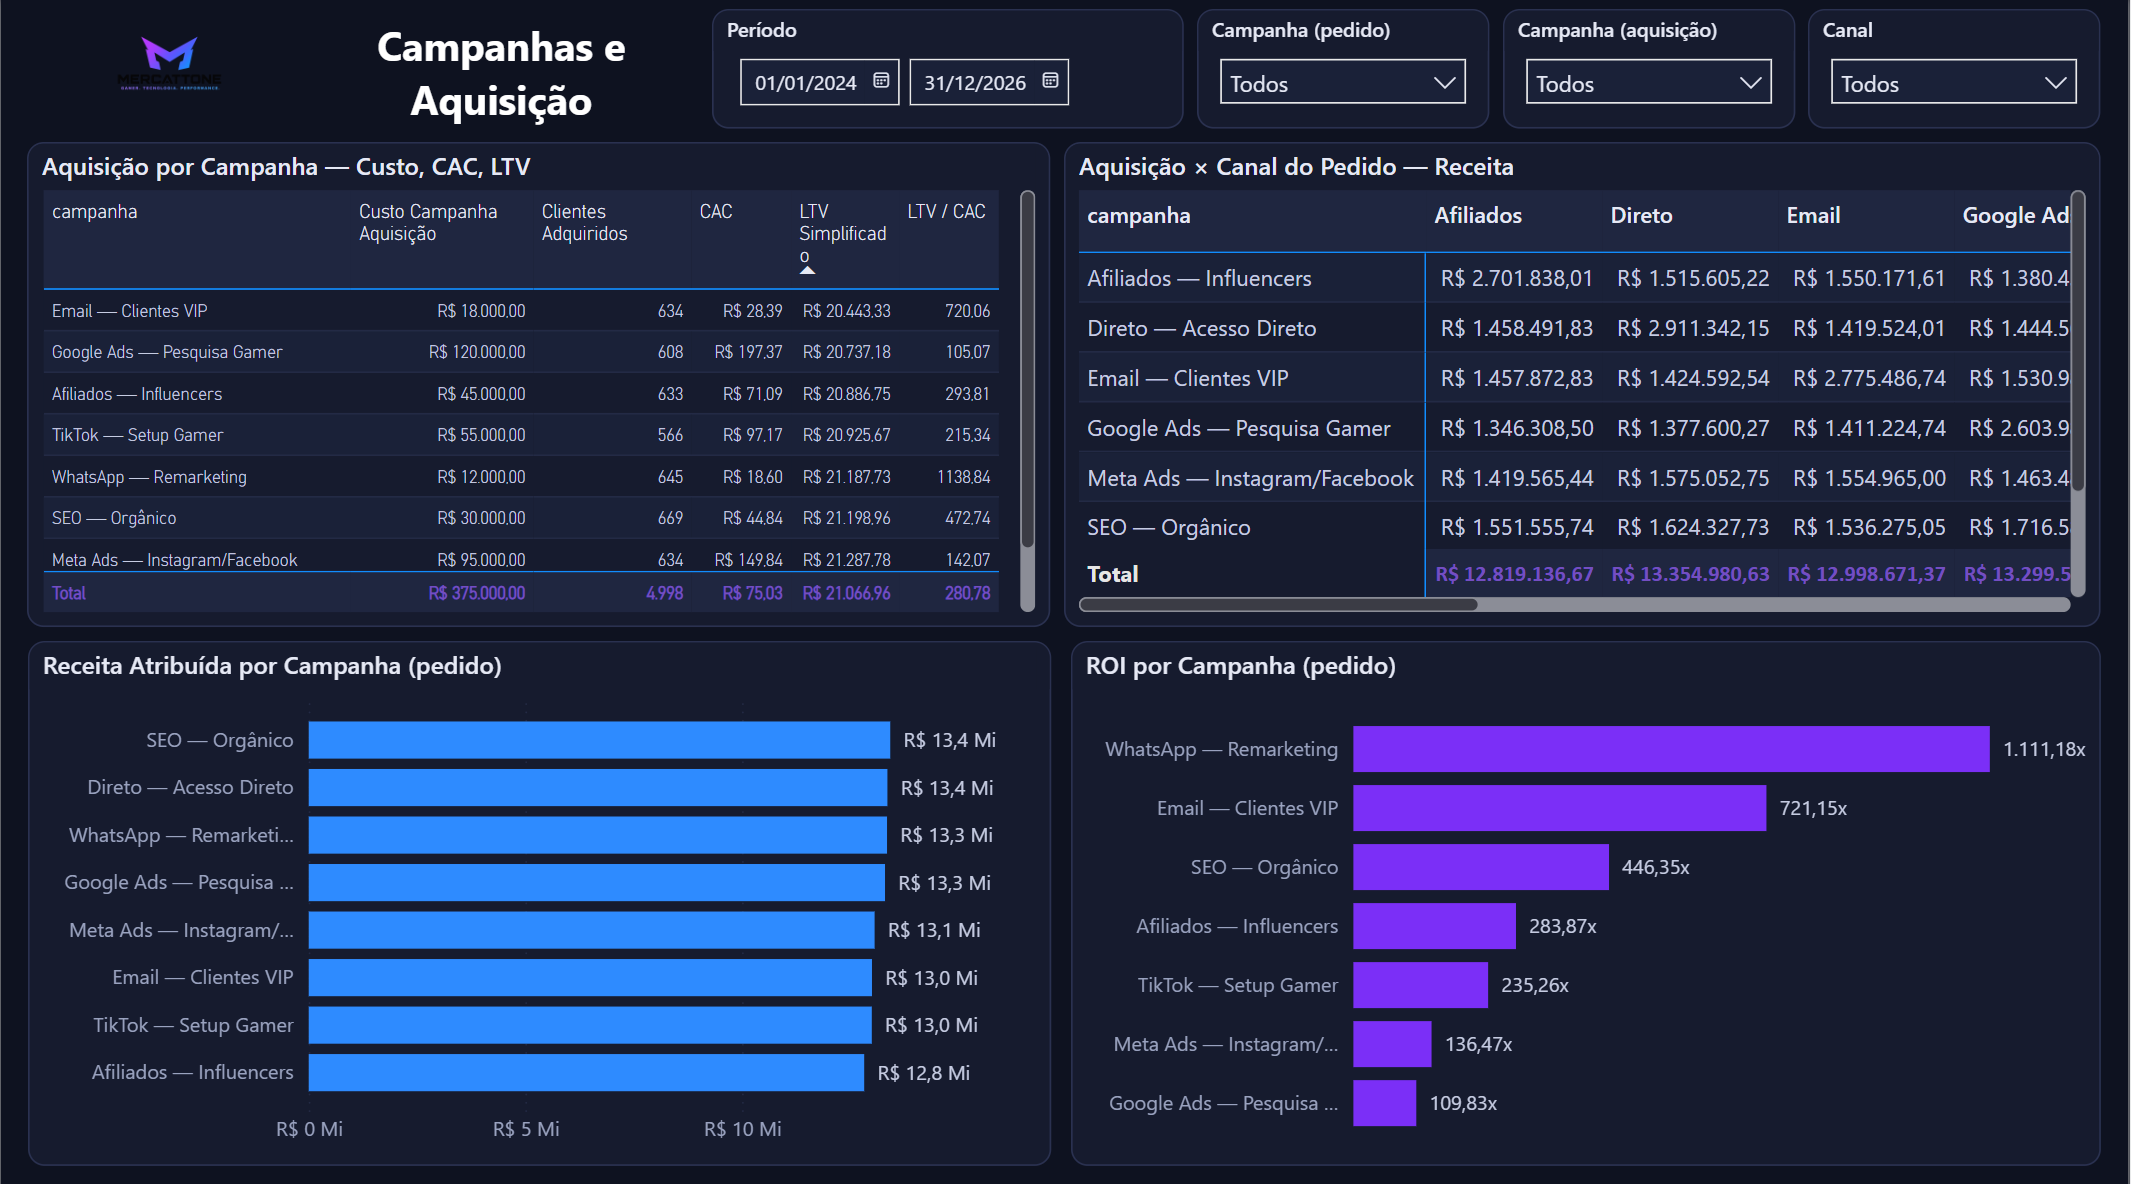

Layout of this report page (visuals, bound fields, positions):
{"tool":"powerbi","page":{"name":"Campanhas e Aquisição","canvas":[1280,720],"ordinal":2},"visuals":[{"type":"textbox","box":[188,8.2,226.8,80.7],"z":0},{"type":"slicer","title":"Período","fields":{"Values":["dCalendario.Date"]},"box":[428,8,284,72],"z":1000},{"type":"slicer","title":"Campanha (pedido)","fields":{"Values":["public campanhas.campanha"]},"box":[720,8,176,72],"z":2000},{"type":"slicer","title":"Campanha (aquisição)","fields":{"Values":["Campanha Aquisição.campanha"]},"box":[904,8,176,72],"z":3000},{"type":"slicer","title":"Canal","fields":{"Values":["public campanhas.canal"]},"box":[1088,8,176,72],"z":4000},{"type":"tableEx","title":"Aquisição por Campanha — Custo, CAC, LTV","fields":{"Values":["Campanha Aquisição.campanha","_Medidas.Custo Campanha Aquisição","_Medidas.Clientes Adquiridos","_Medidas.CAC","_Medidas.LTV Simplificado","_Medidas.LTV / CAC"]},"box":[15.9,87.8,615.7,292.2],"z":5000},{"type":"pivotTable","title":"Aquisição × Canal do Pedido — Receita","fields":{"Rows":["Campanha Aquisição.campanha"],"Columns":["public campanhas.canal"],"Values":["_Medidas.Receita Total"]},"box":[639.9,87.8,624,292.2],"z":6000},{"type":"clusteredBarChart","title":"Receita Atribuída por Campanha (pedido)","fields":{"Category":["public campanhas.campanha"],"Y":["_Medidas.Receita Total"]},"box":[16,388,616,316],"z":7000},{"type":"clusteredBarChart","title":"ROI por Campanha (pedido)","fields":{"Category":["public campanhas.campanha"],"Y":["_Medidas.ROI Campanha"]},"box":[644,388,620,316],"z":8000},{"type":"image","box":[15.9,8.2,172,71.9],"z":9000}]}

Visuals, with their boxes in screenshot pixels (x1, y1, x2, y2), scaled from the page's 1280x720 canvas onto the 2131x1185 screenshot:
textbox: <bbox>313, 13, 691, 146</bbox>
"Período" slicer: <bbox>713, 13, 1185, 132</bbox>
"Campanha (pedido)" slicer: <bbox>1199, 13, 1492, 132</bbox>
"Campanha (aquisição)" slicer: <bbox>1505, 13, 1798, 132</bbox>
"Canal" slicer: <bbox>1811, 13, 2104, 132</bbox>
"Aquisição por Campanha — Custo, CAC, LTV" tableEx: <bbox>26, 145, 1052, 625</bbox>
"Aquisição × Canal do Pedido — Receita" pivotTable: <bbox>1065, 145, 2104, 625</bbox>
"Receita Atribuída por Campanha (pedido)" clusteredBarChart: <bbox>27, 639, 1052, 1159</bbox>
"ROI por Campanha (pedido)" clusteredBarChart: <bbox>1072, 639, 2104, 1159</bbox>
image: <bbox>26, 13, 313, 132</bbox>
